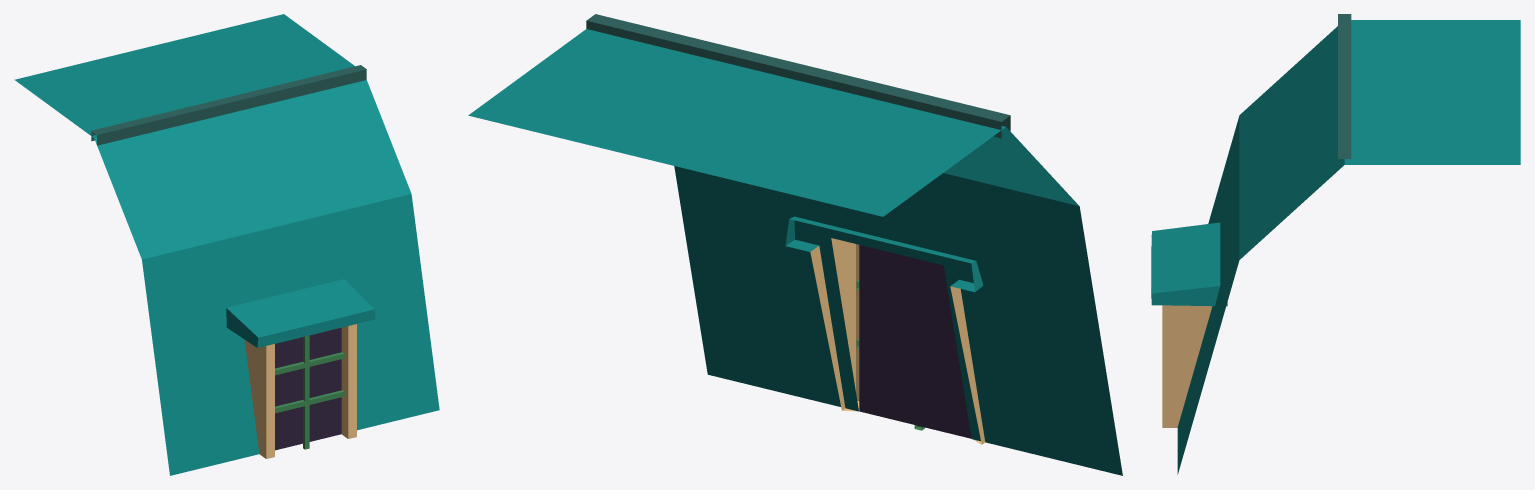
Rendered from Roof1.fbx.
The picture shows the model from 3 angles, left to right: view 1: azimuth 30°, elevation 25°; view 2: azimuth 150°, elevation 25°; view 3: azimuth 270°, elevation 25°; orthographic projection. The views are drawn at different scales.
Visible parts, largest first — view 1: roof1; view 2: roof1; view 3: roof1.
Part boxes in pixels (x1=…): roof1: x1=14, y1=14, x2=439, y2=475; roof1: x1=468, y1=14, x2=1122, y2=475; roof1: x1=1151, y1=14, x2=1520, y2=474.
Bounding box in the file's own units: 200 × 206 × 215.
